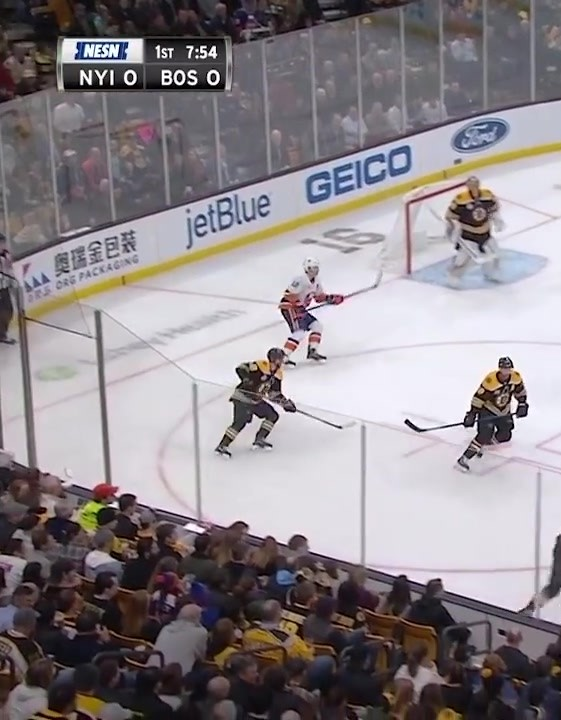Geico: (304, 144, 423, 209)
